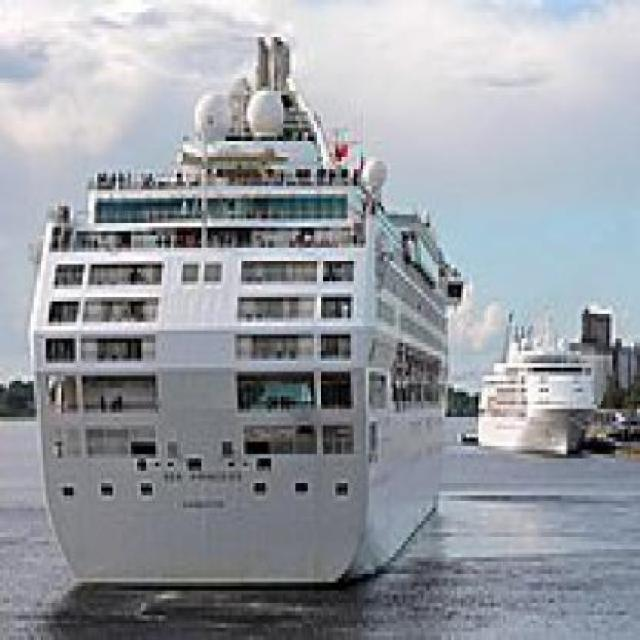cruise: (17, 21, 468, 604), (467, 302, 607, 480)
